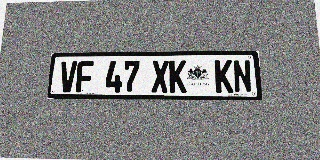4: (105, 61, 123, 92)
7: (122, 61, 140, 93)
F: (76, 61, 94, 92)
K: (169, 60, 187, 93), (215, 60, 233, 93)
N: (233, 60, 252, 93)
V: (59, 61, 77, 92)
X: (151, 60, 169, 93)
